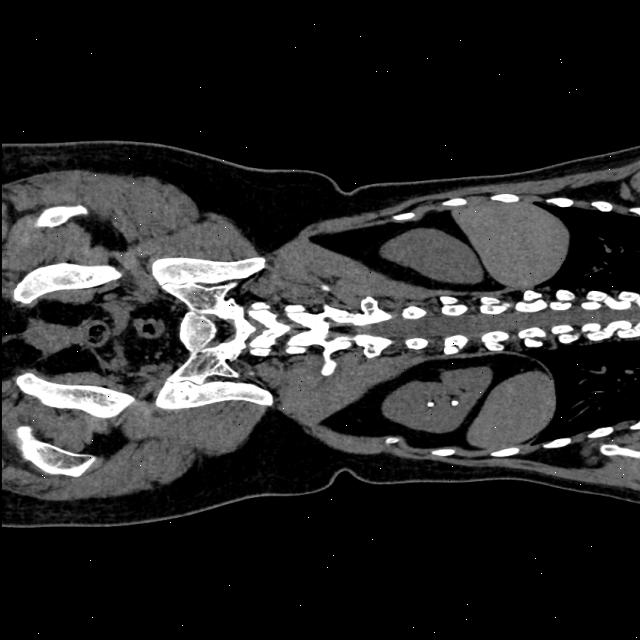kidneystone: (450, 400, 458, 406), (426, 402, 433, 406)
